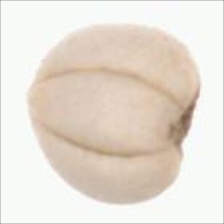L5: (27, 66, 180, 158), (171, 84, 202, 157)
L6: (26, 22, 201, 207)
